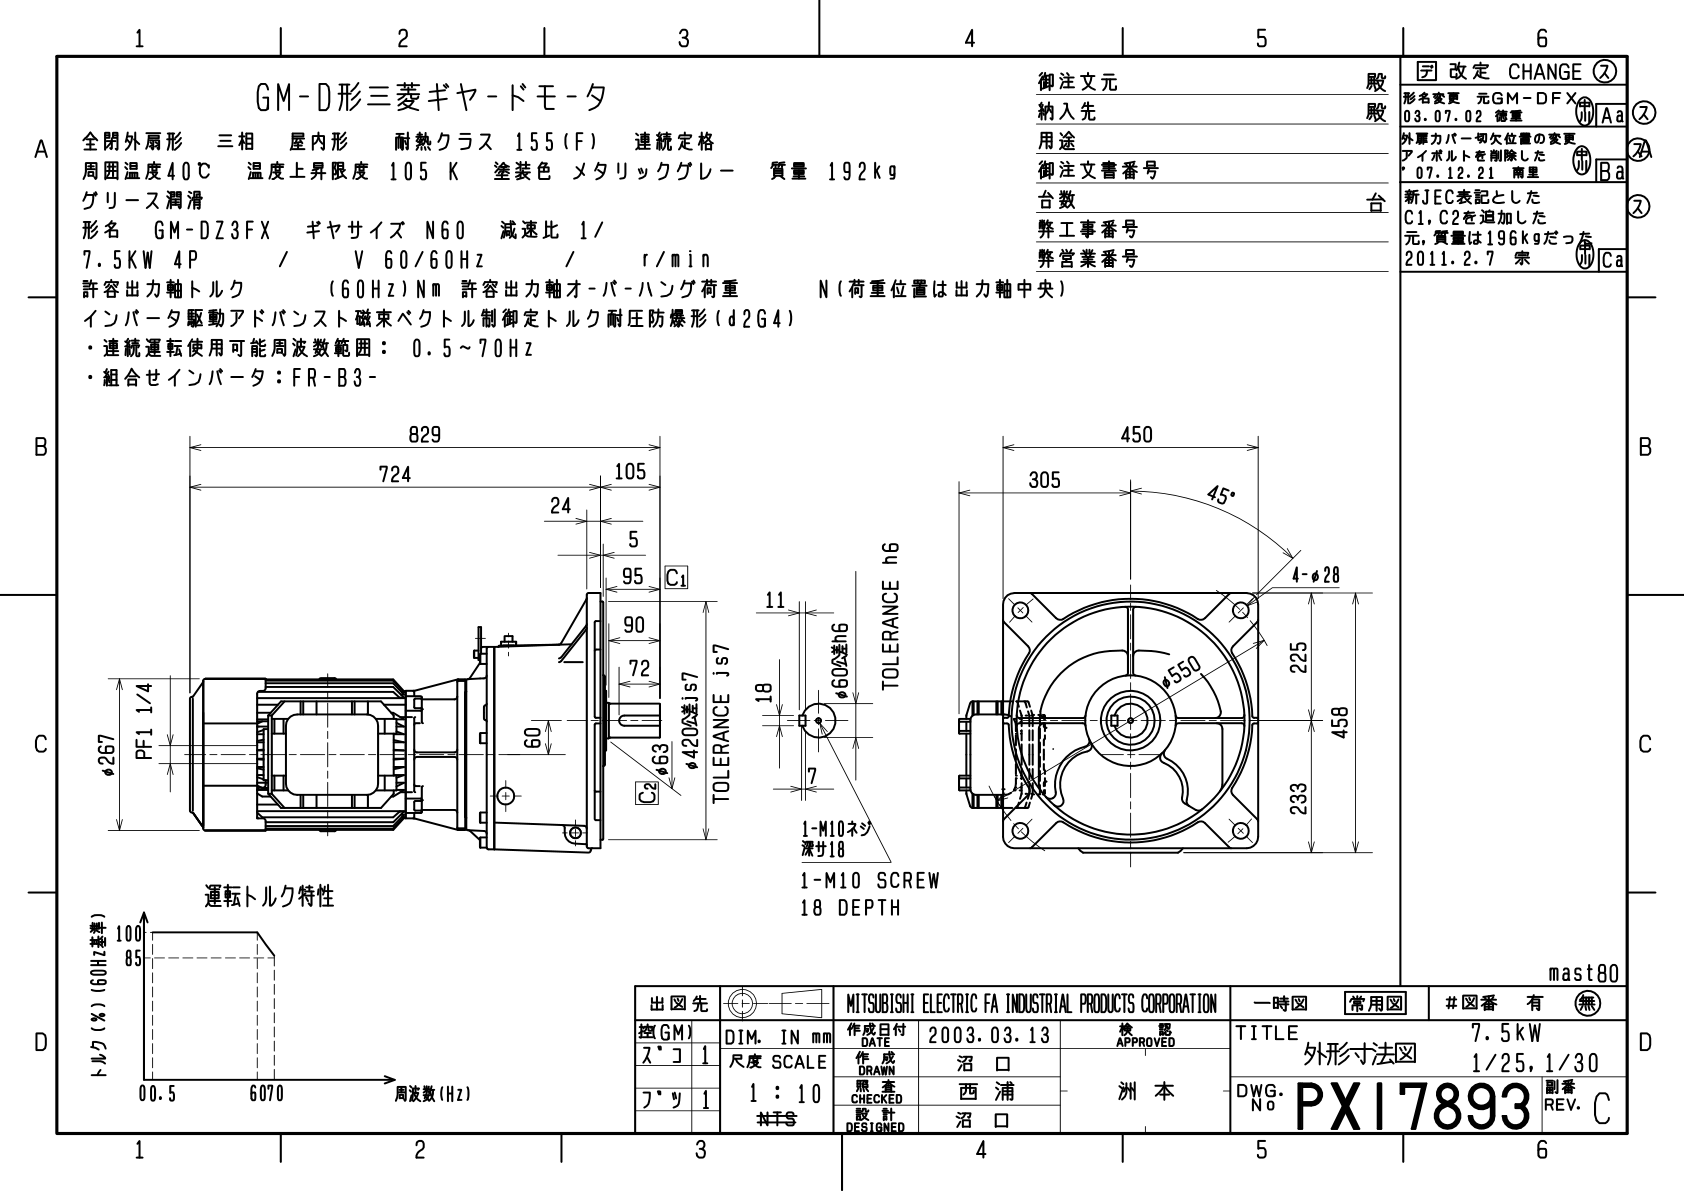GM_D_制御屋内_三相_フランジ: (64, 392, 1377, 967)
